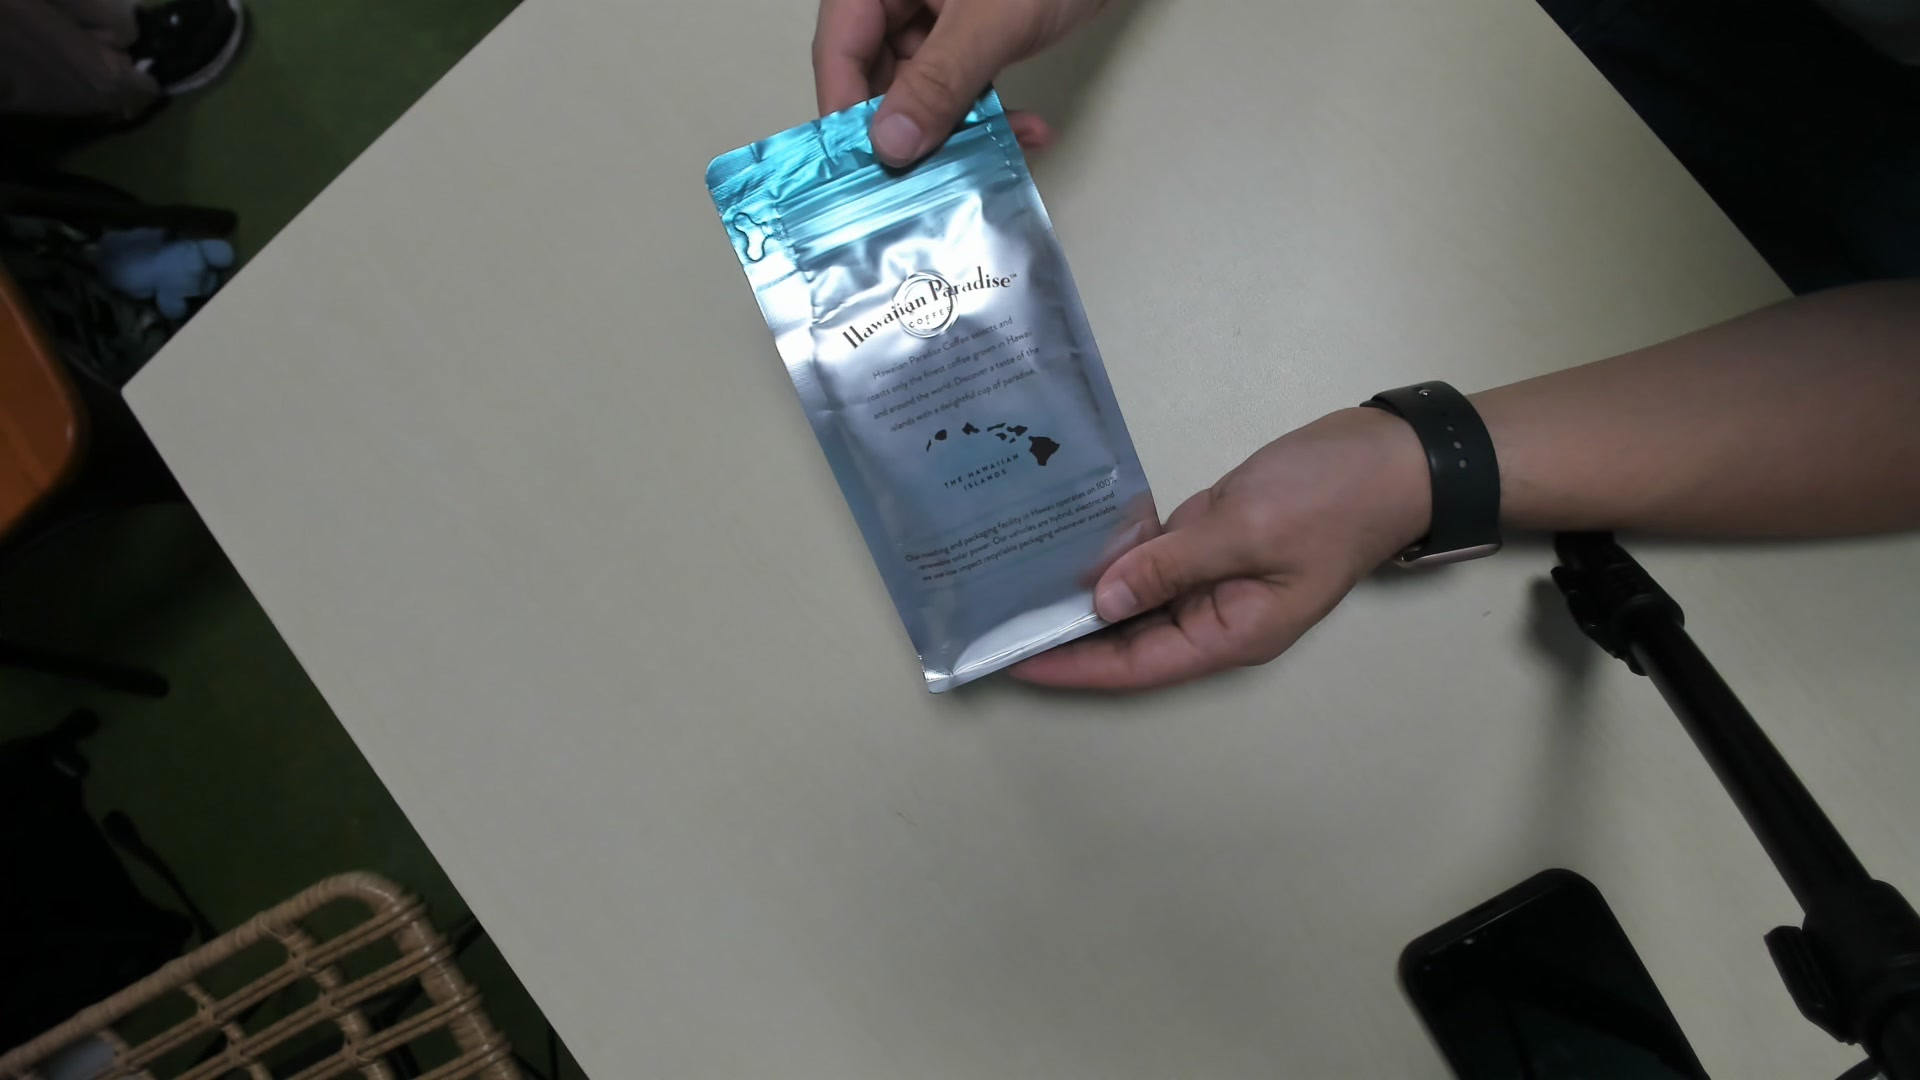Coffee_100-199g_NonHalal_NonHealthy: (708, 71, 1174, 700)
